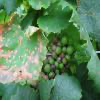grape leaf black rot: (0, 14, 48, 85)
